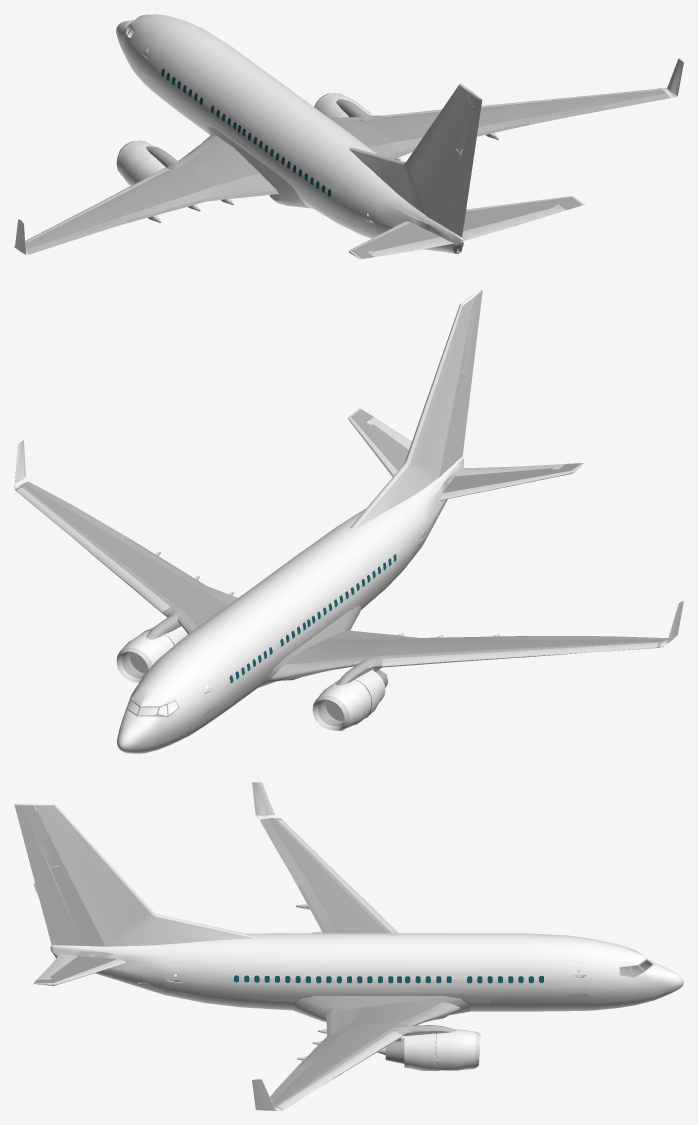
3 renders of one model, top to bottom at view 1: azimuth 30°, elevation 25°; view 2: azimuth 150°, elevation 25°; view 3: azimuth 270°, elevation 25°, orthographic. The views are drawn at different scales.
Parts seen in each view (by area): view 1: vstable; view 2: vstable; view 3: vstable.
Part boxes in pixels (x1,y1,x2,y2): vstable: (14, 14, 683, 259); vstable: (14, 288, 683, 753); vstable: (14, 782, 683, 1110).
Bounding box in the file's own units: 34.85 × 12.04 × 33.12.
Materials: 1 (1 with a texture image).
